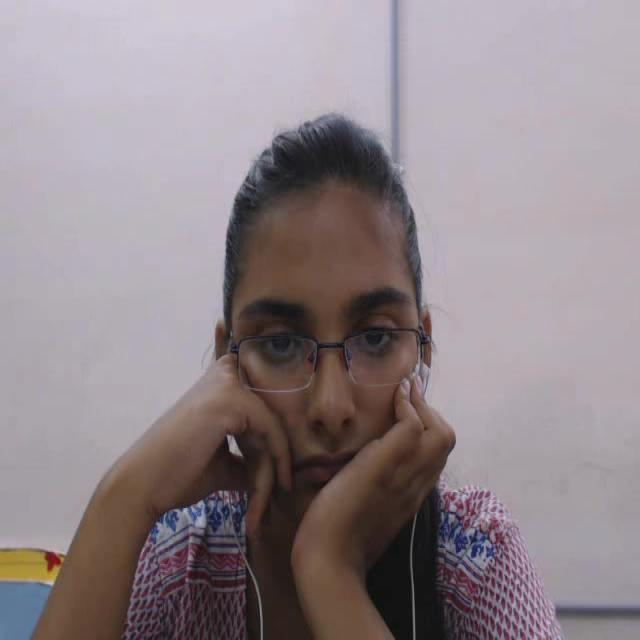Bored: (169, 89, 526, 594)
